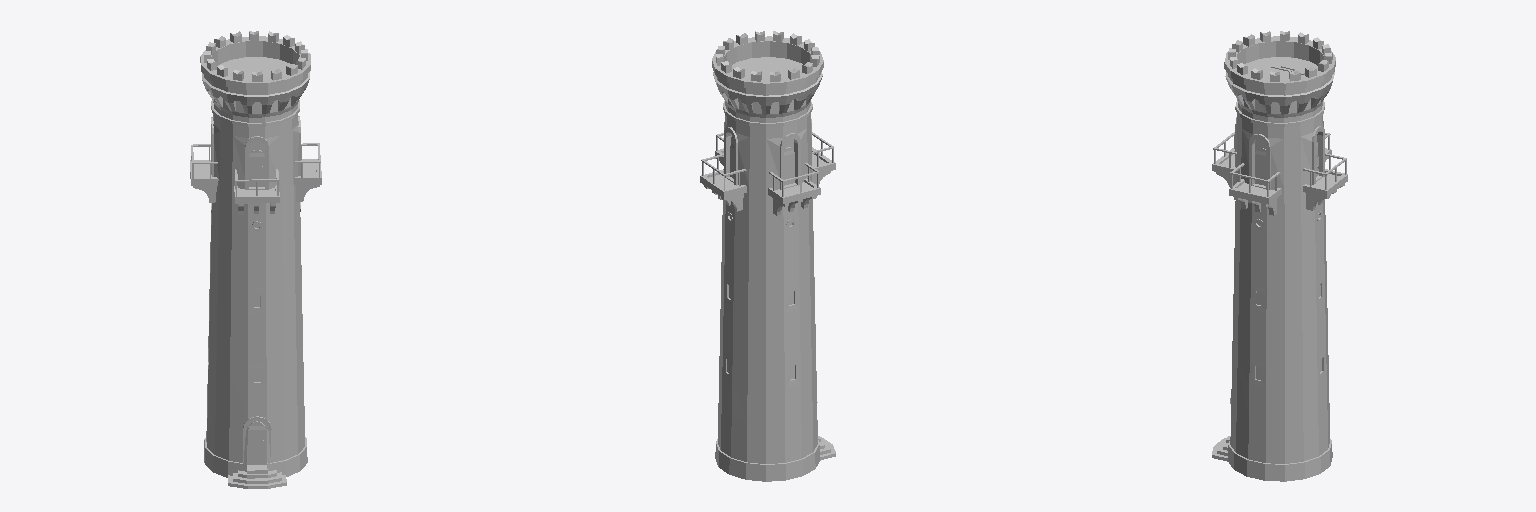
File: Torre.obj
3 renders of one model, left to right at view 1: azimuth 30°, elevation 25°; view 2: azimuth 150°, elevation 25°; view 3: azimuth 270°, elevation 25°, orthographic.
Visible parts, largest first — view 1: KH_TowerHigh_003; view 2: KH_TowerHigh_003; view 3: KH_TowerHigh_003.
Part boxes in pixels (bbox=[...]): KH_TowerHigh_003: bbox=[190, 31, 321, 488]; KH_TowerHigh_003: bbox=[700, 31, 835, 481]; KH_TowerHigh_003: bbox=[1212, 31, 1347, 481].
Bounding box in the file's own units: 729 × 2403 × 733.